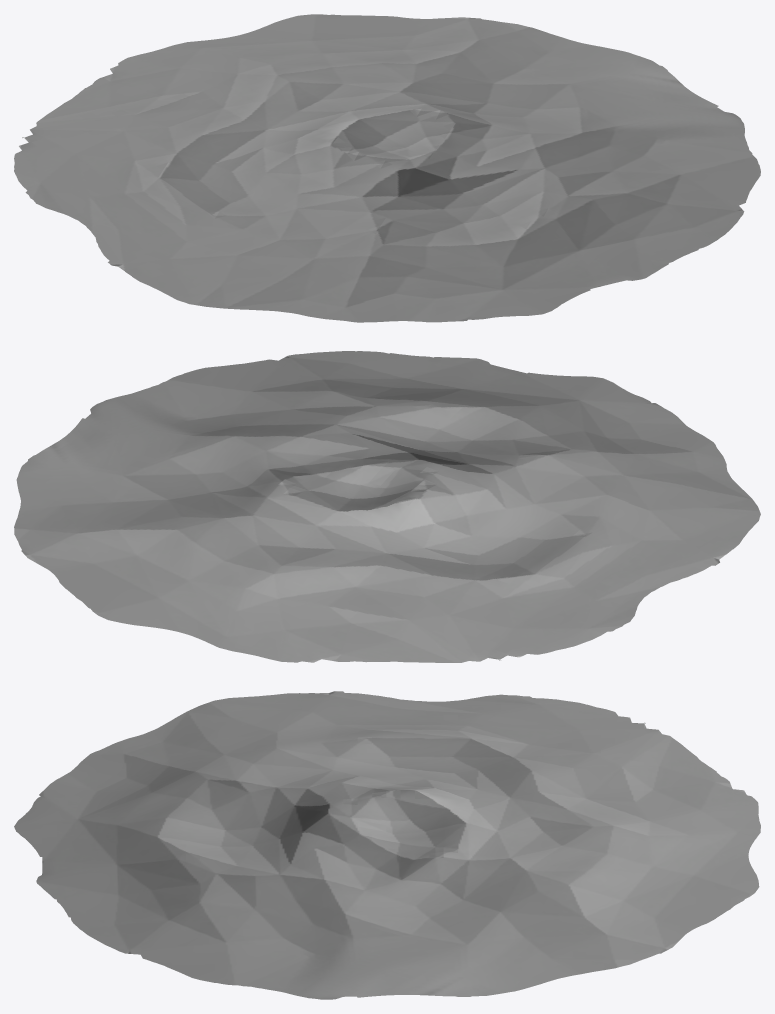
Rendered from island_surface.glb.
3 renders of one model, top to bottom at view 1: azimuth 30°, elevation 25°; view 2: azimuth 150°, elevation 25°; view 3: azimuth 270°, elevation 25°, orthographic.
Parts seen in each view (by area): view 1: Landscape.002; view 2: Landscape.002; view 3: Landscape.002.
Part boxes in pixels (box(x1,y1,x2,y2)): Landscape.002: box(14, 14, 760, 322); Landscape.002: box(14, 351, 760, 662); Landscape.002: box(14, 691, 760, 999).
Bounding box in the file's own units: 24.27 × 1.11 × 24.84.
Materials: 1 (1 with a texture image).
